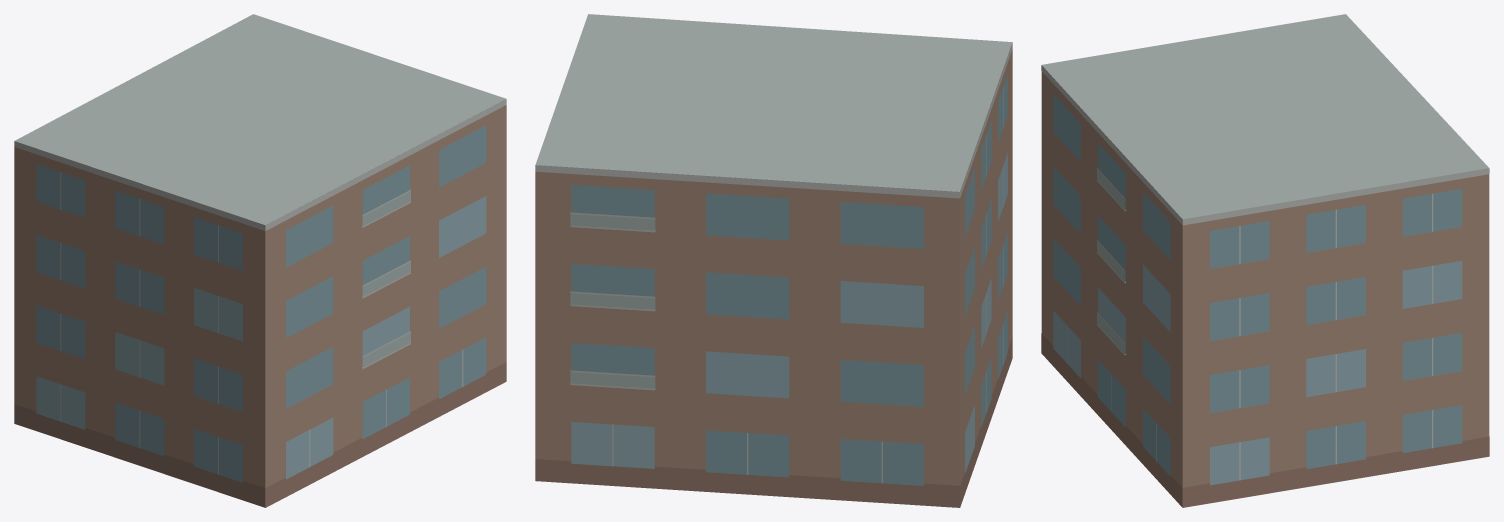
File: survey-upis-33014979.glb
3 renders of one model, left to right at view 1: azimuth 30°, elevation 25°; view 2: azimuth 150°, elevation 25°; view 3: azimuth 270°, elevation 25°, orthographic. The views are drawn at different scales.
Visible parts, largest first — view 1: survey-upis-33014979.tmp; view 2: survey-upis-33014979.tmp; view 3: survey-upis-33014979.tmp.
Boxes of the visible parts, <box> form: survey-upis-33014979.tmp: <box>14,14,506,507</box>; survey-upis-33014979.tmp: <box>535,14,1012,507</box>; survey-upis-33014979.tmp: <box>1041,14,1489,507</box>.
Size of the model in its own units: 17.88 by 11.7 by 16.48.
